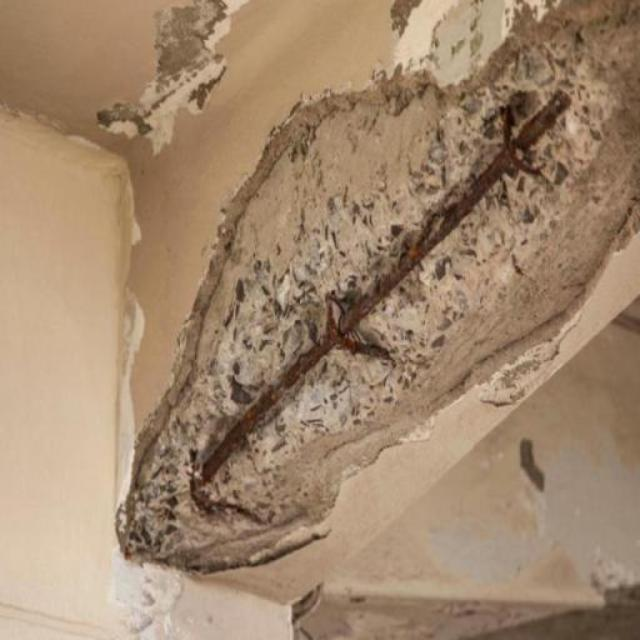D0w0: (114, 30, 639, 573)
